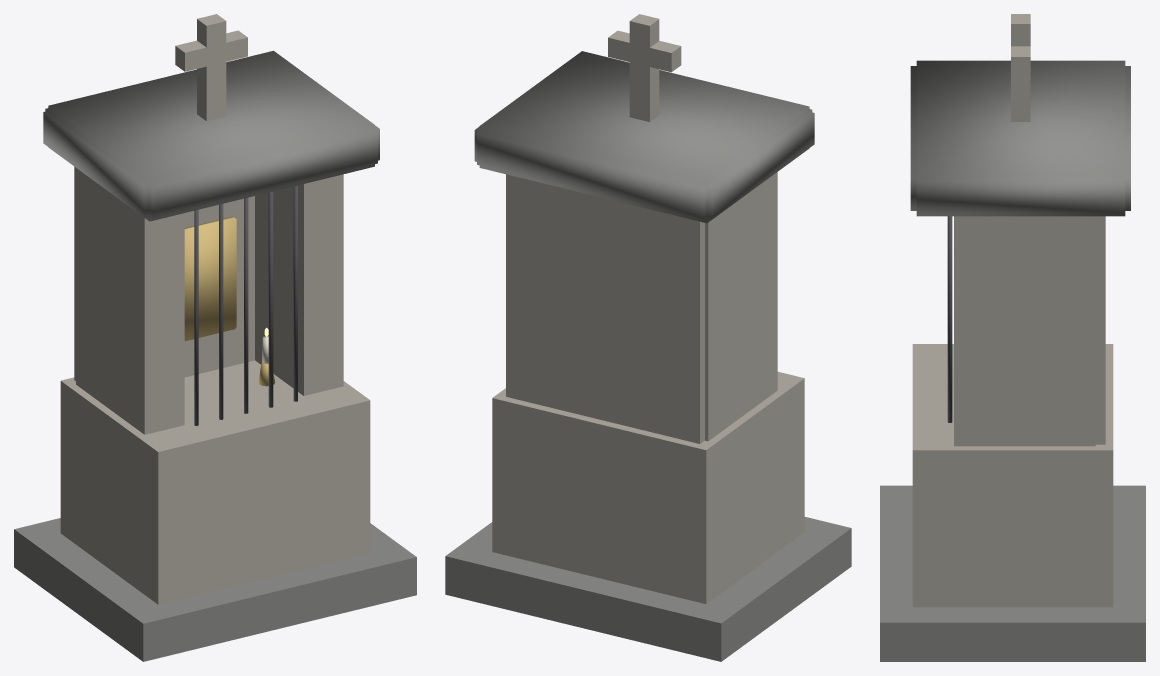
The model's file is chapel_shrine.glb.
3 views of the same model, side by side, from view 1: azimuth 30°, elevation 25°; view 2: azimuth 150°, elevation 25°; view 3: azimuth 270°, elevation 25° (orthographic). The views are drawn at different scales.
Parts seen in each view (by area): view 1: Pedestal, RoofSlab, BaseStep, PillarL, PillarR, BackWall, IconPlate, CrossVert, CrossHoriz, GrateBar_0.1, GrateBar_0.3, GrateBar_0.0 (+2 smaller); view 2: Pedestal, BackWall, RoofSlab, BaseStep, PillarL, CrossVert, CrossHoriz; view 3: Pedestal, RoofSlab, PillarR, BaseStep, BackWall, CrossVert, GrateBar_0.3, CrossHoriz.
Boxes of the visible parts, box(x1,y1,x2,y2) form: Pedestal: box(60, 360, 370, 604); RoofSlab: box(43, 50, 379, 221); BaseStep: box(14, 518, 416, 661); PillarL: box(76, 168, 184, 434); PillarR: box(255, 174, 343, 395); BackWall: box(74, 166, 254, 380); IconPlate: box(184, 216, 236, 341); CrossVert: box(197, 14, 226, 121); CrossHoriz: box(175, 30, 247, 71); GrateBar_0.1: box(268, 191, 273, 407); GrateBar_0.3: box(293, 185, 297, 401); GrateBar_0.0: box(244, 197, 248, 413); Pedestal: box(492, 371, 804, 603); BackWall: box(506, 174, 704, 443); RoofSlab: box(474, 51, 814, 223); BaseStep: box(445, 517, 851, 661); PillarL: box(705, 172, 777, 441); CrossVert: box(629, 14, 659, 121); CrossHoriz: box(608, 30, 681, 72); Pedestal: box(912, 344, 1113, 607); RoofSlab: box(910, 60, 1130, 216); PillarR: box(954, 216, 1095, 446); BaseStep: box(880, 485, 1145, 661); BackWall: box(1095, 216, 1105, 444); CrossVert: box(1011, 14, 1030, 121); GrateBar_0.3: box(947, 216, 952, 422); CrossHoriz: box(1011, 46, 1030, 76).
Size of the model in its own units: 1.65 by 3.22 by 1.35.
